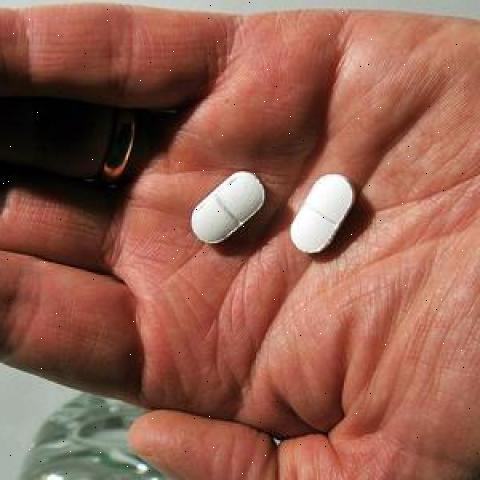Pill: (168, 162, 278, 267), (286, 148, 362, 281)
